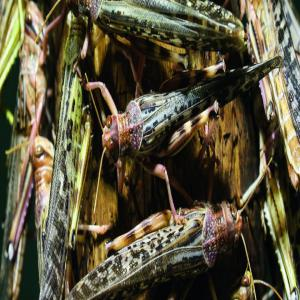locust: (95, 30, 285, 215), (40, 7, 93, 297)
